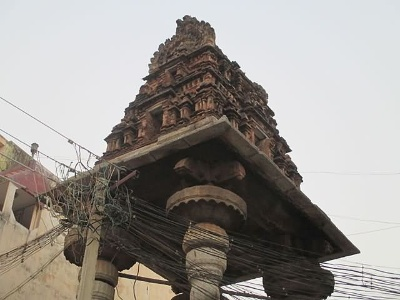gopura: (105, 8, 324, 166)
